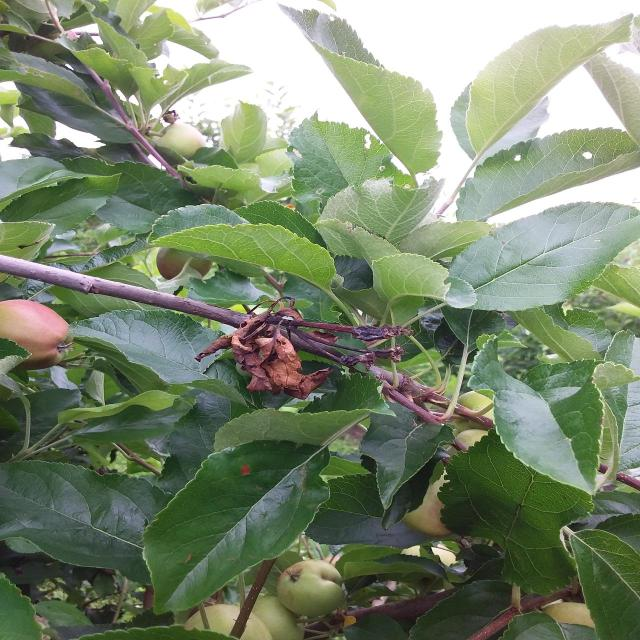-FireBlight-: (181, 287, 412, 403)
